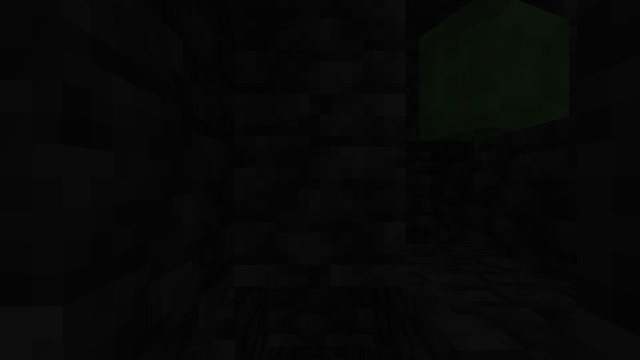slimes: (425, 17, 551, 147)
